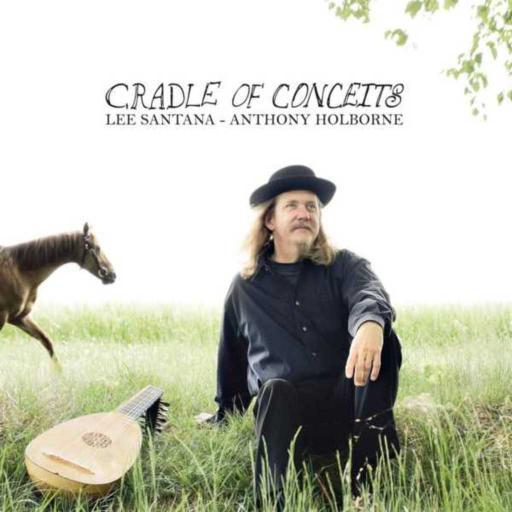Horse: (0, 221, 116, 369)
